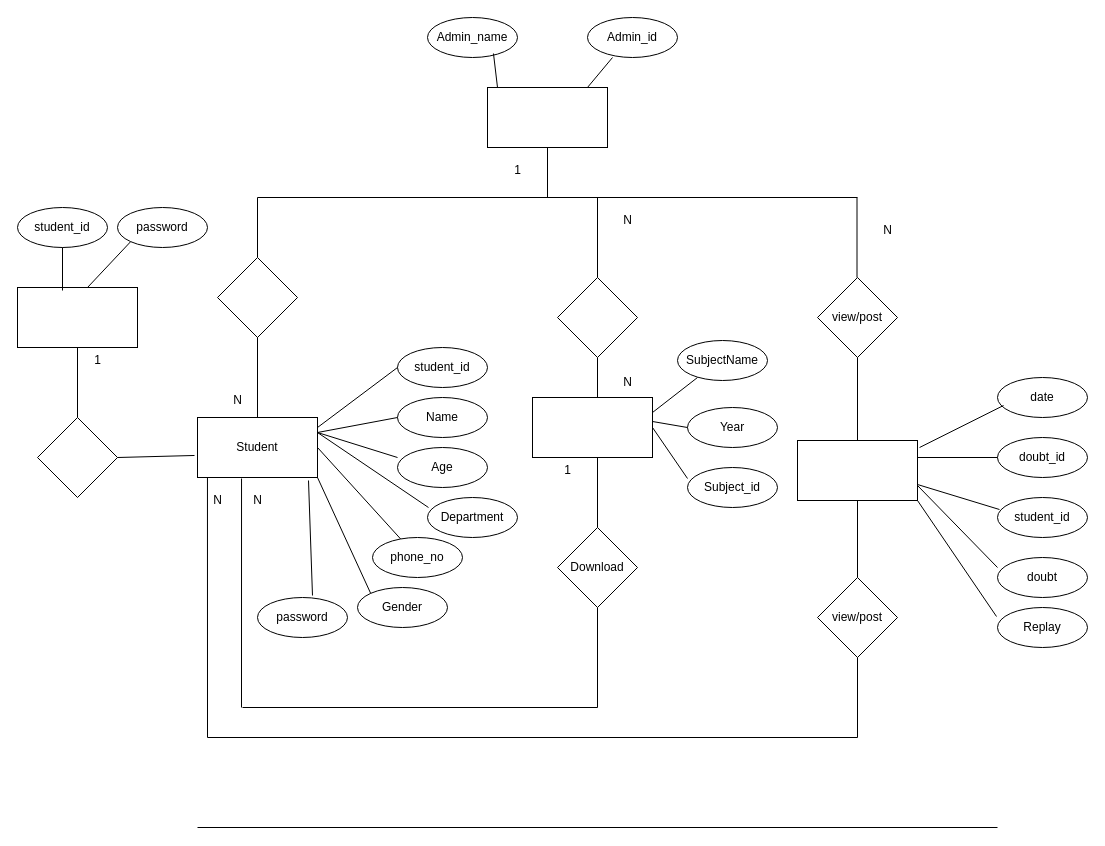
Image size: 1105x846. Some labels were removed from this diagram. The shapes that lost their labels are listed below. From the top down, each one's box as (x1, y1, x2, y2) in pixels, then its label:
(486, 86, 608, 148): Admin
(16, 286, 138, 348): Student_Login
(216, 256, 298, 338): Register
(556, 276, 638, 358): Manage
(532, 396, 652, 458): StudyMaterials
(36, 416, 118, 498): Has
(796, 440, 918, 500): Doubts
